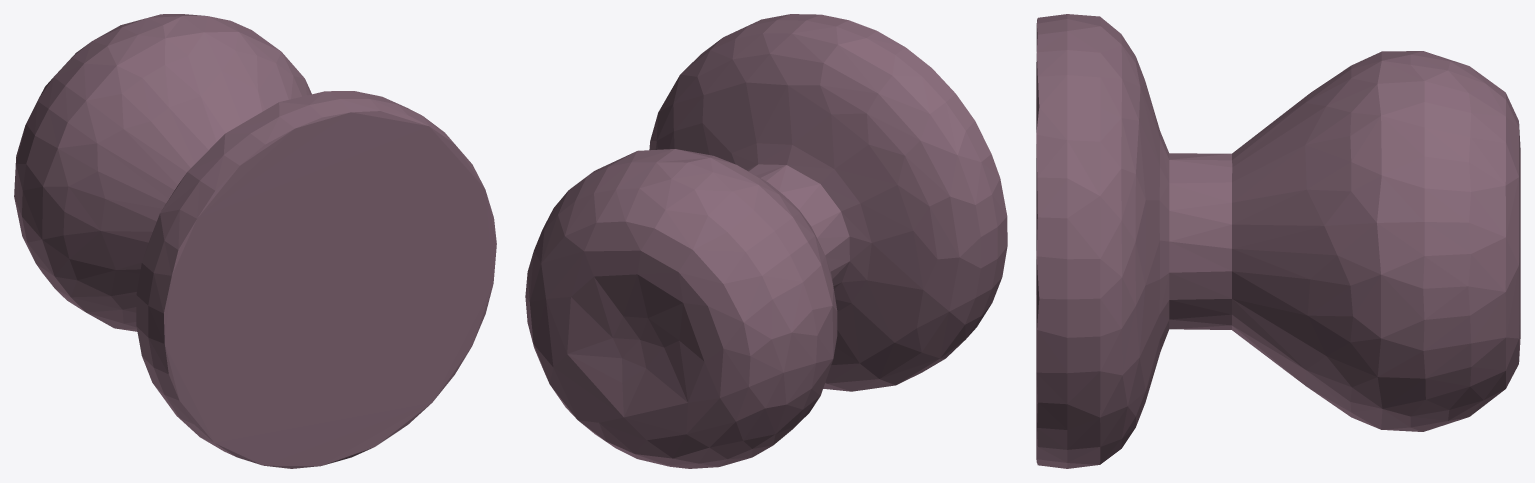
File: BézierCurve.003.glb
3 renders of one model, left to right at view 1: azimuth 30°, elevation 25°; view 2: azimuth 150°, elevation 25°; view 3: azimuth 270°, elevation 25°, orthographic. The views are drawn at different scales.
Visible parts, largest first — view 1: BézierCurve.005; view 2: BézierCurve.005; view 3: BézierCurve.005.
Part boxes in pixels (x1,y1,x2,y2): BézierCurve.005: [14, 14, 496, 468]; BézierCurve.005: [525, 14, 1007, 468]; BézierCurve.005: [1036, 14, 1520, 468].
Size of the model in its own units: 0.0901 by 0.0902 by 0.096.
